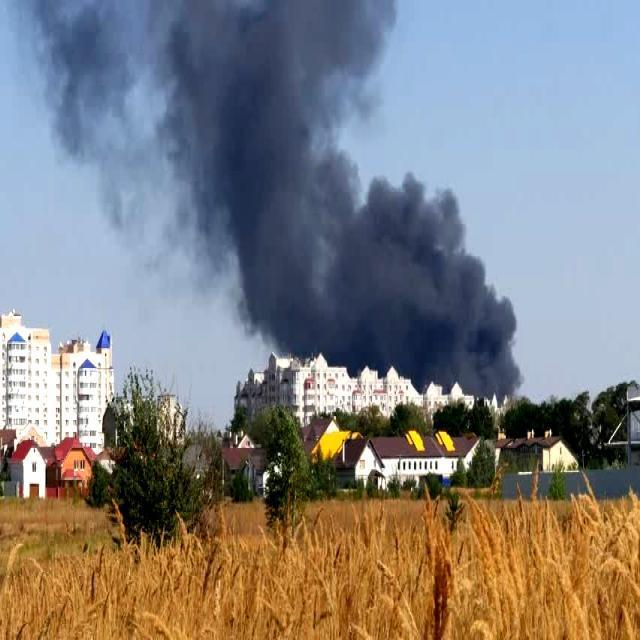Smoke: (136, 0, 511, 391)
